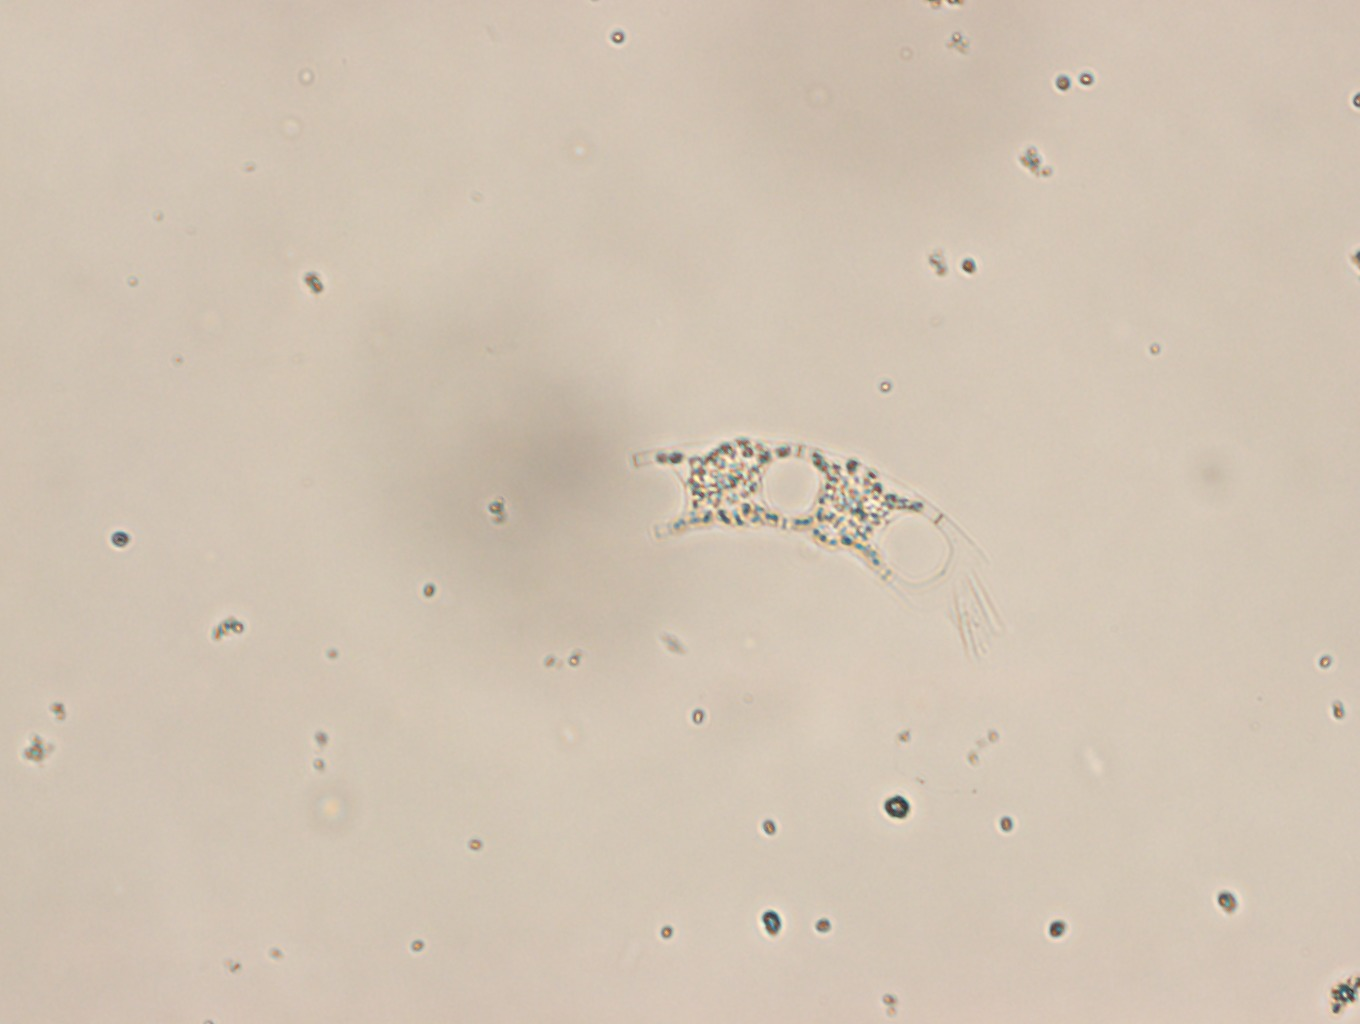eucampia: (628, 433, 992, 626)
